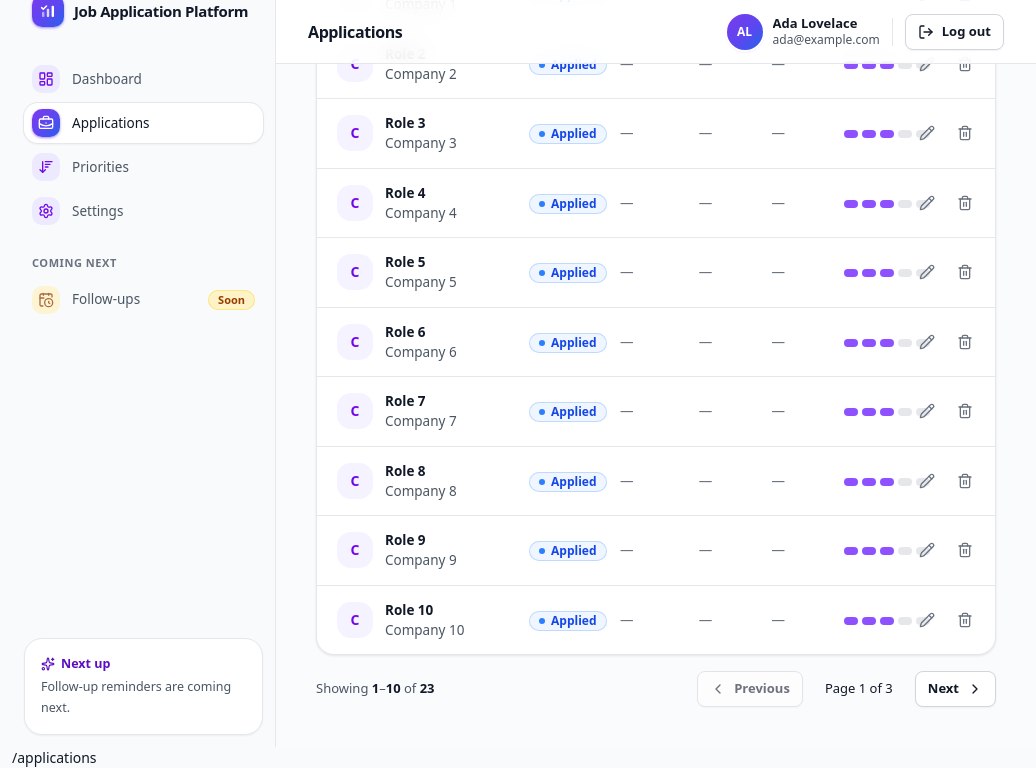
Applications page: pagination › moves between pages using the backend pagination metadata
(page scrolled)
Expected: the text "Page 1 of 3" is shown, [825,679,893,697]
Expected: the text "Showing 1–10 of 23" is shown, [316,679,435,699]
Click the button "Next": (955, 689) [915,671,996,707]
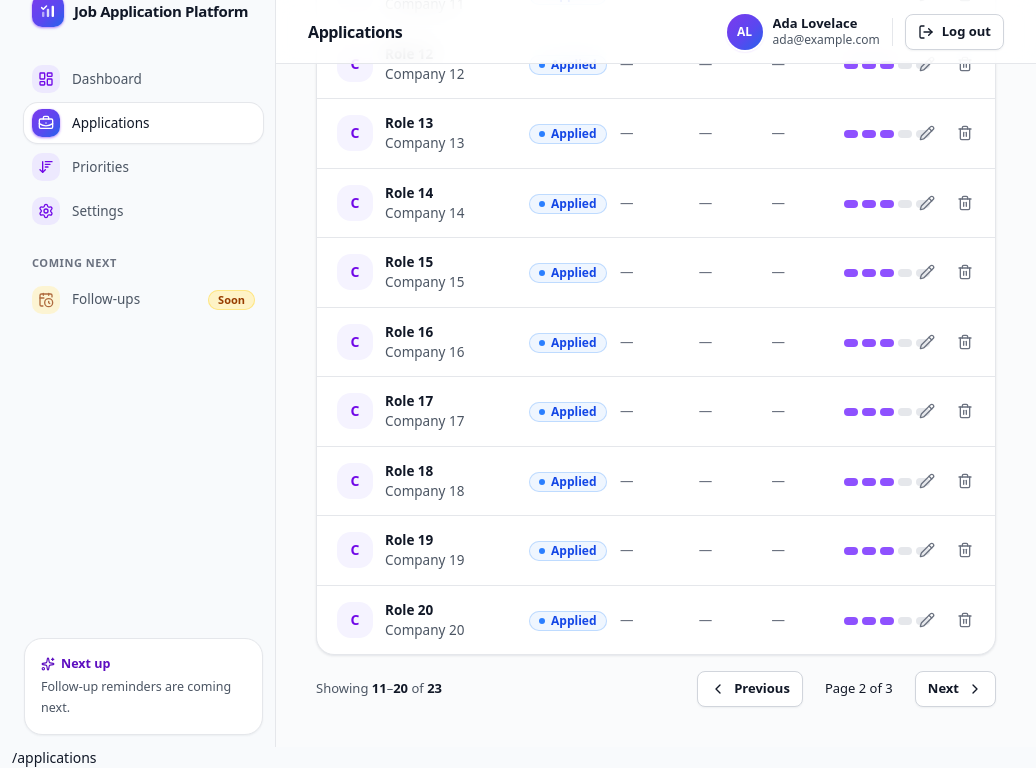
Now the text "Page 2 of 3" is shown, box [825,679,893,697]
Now the button "Previous" is enabled, box [697,671,803,707]
Click the button "Next": (955, 689) [915,671,996,707]
(page scrolled)
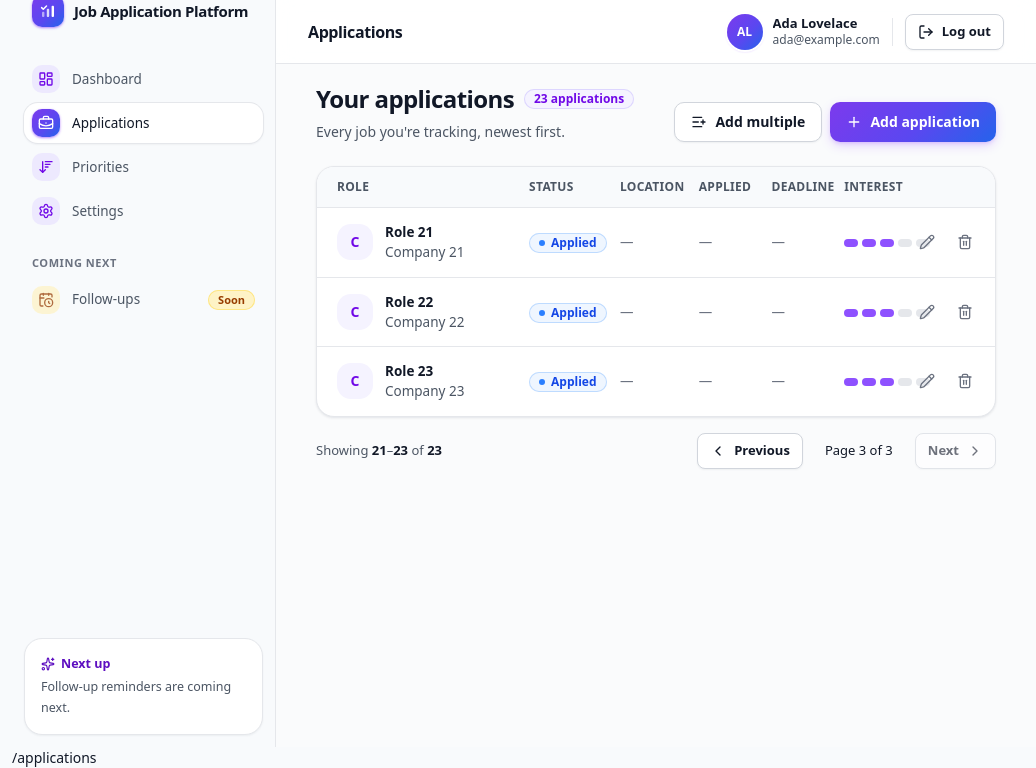
Now the text "Page 3 of 3" is shown, box [825,441,893,459]
Now the text "Showing 21–23 of 23" is shown, box [316,441,442,460]
Now the button "Next" is disabled, box [915,432,996,468]
Click the button "Previous": (750, 450) [697,432,803,468]
(page scrolled)
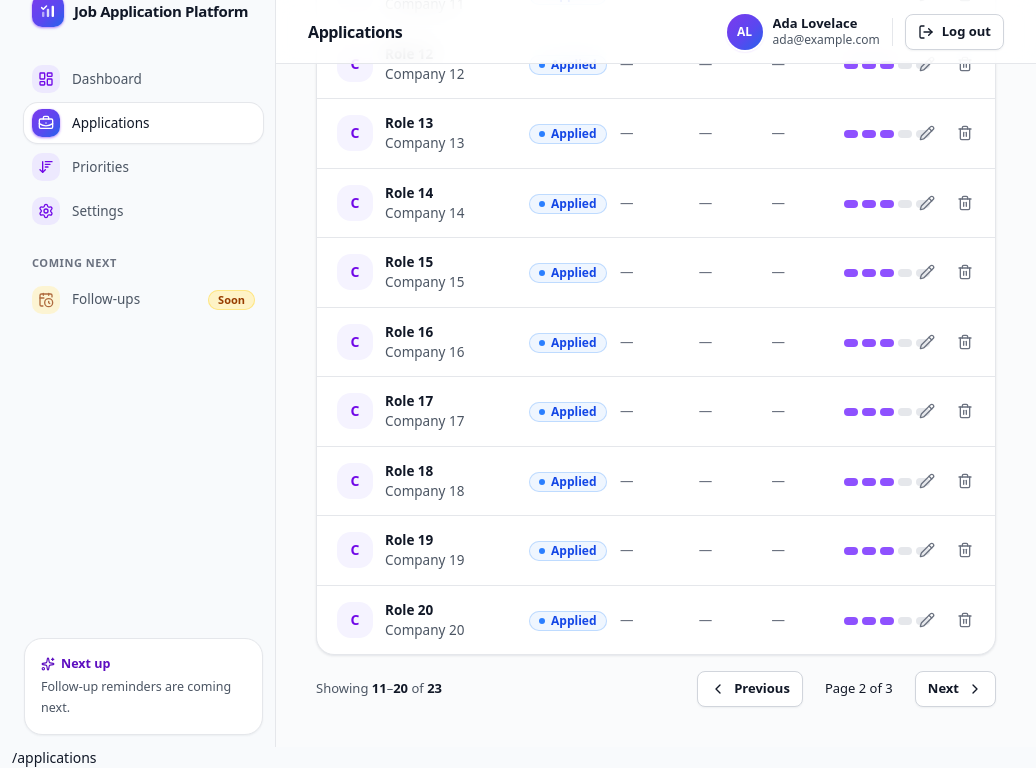
Now the text "Page 2 of 3" is shown, box [825,679,893,697]
